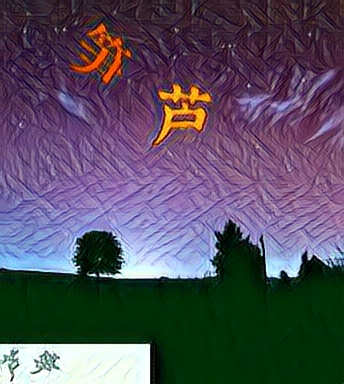C2AB: (146, 81, 212, 145)
CBF1: (70, 22, 136, 86)
